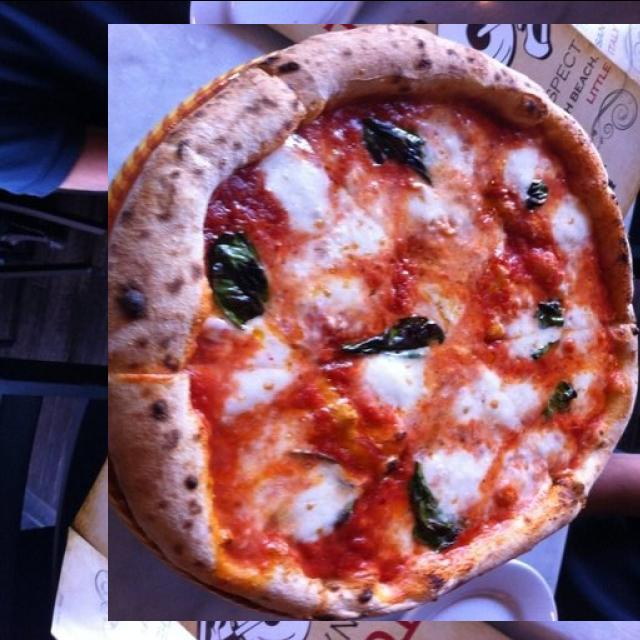basil: (477, 313, 537, 411), (280, 93, 336, 184), (314, 460, 392, 524), (302, 289, 403, 326), (184, 282, 220, 347), (172, 222, 212, 264), (198, 432, 224, 464)
pizza: (108, 23, 640, 620)
